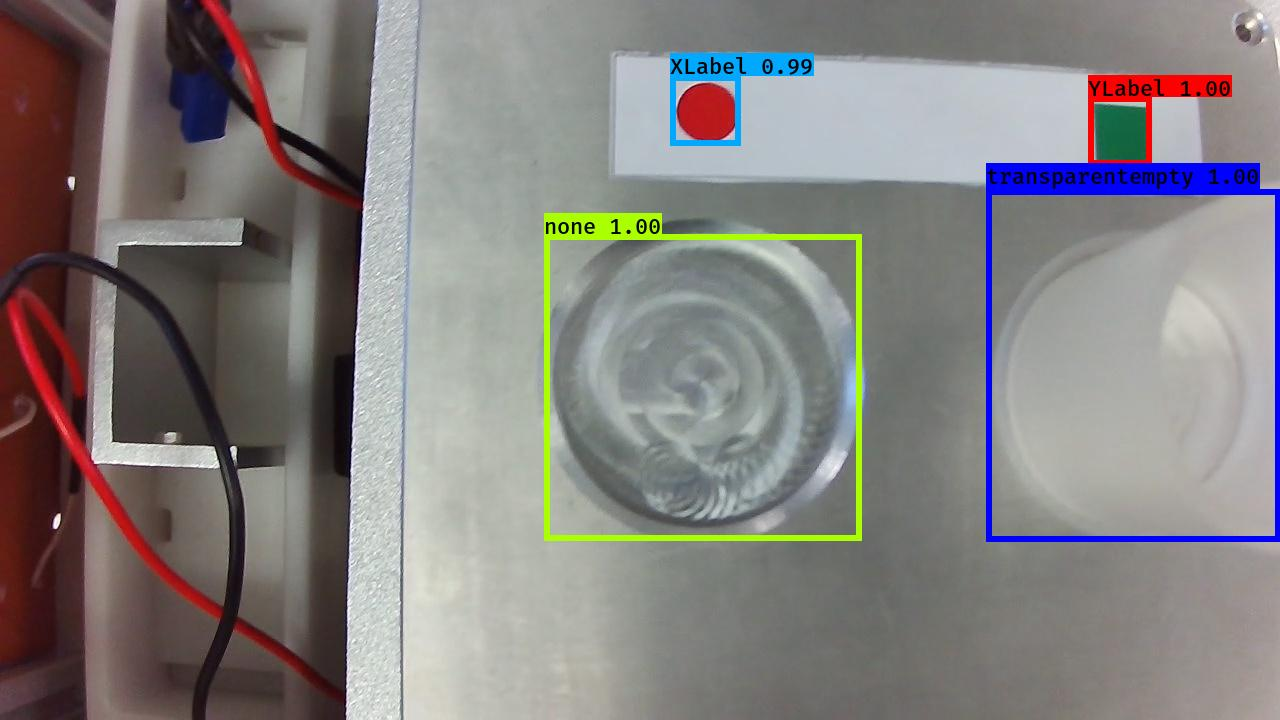XLabel: (674, 78, 743, 147)
YLabel: (1089, 99, 1154, 167)
none: (526, 212, 869, 546)
transparentempty: (987, 167, 1280, 550)
